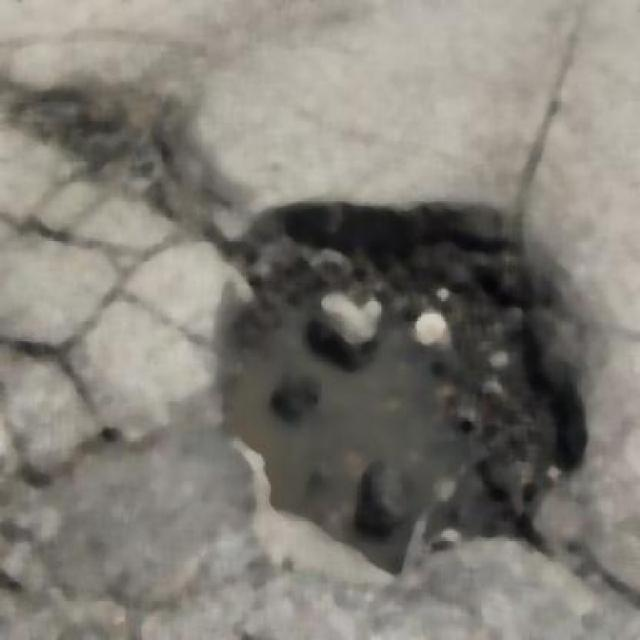Pothole: (222, 218, 596, 556)
